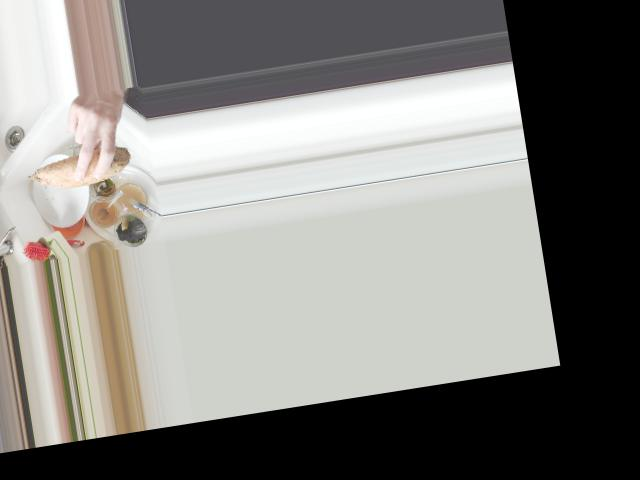sweet_potato: (20, 138, 137, 194)
